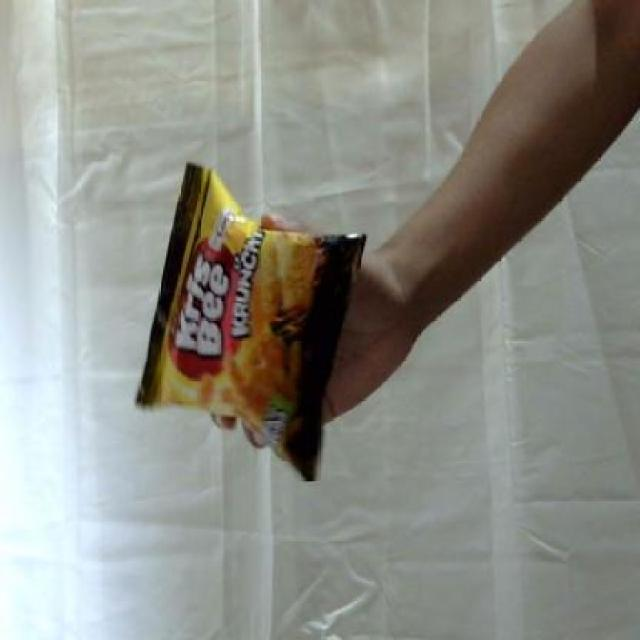Plastic: (127, 154, 372, 488)
